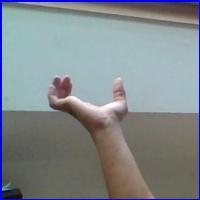B: (45, 69, 135, 125)
